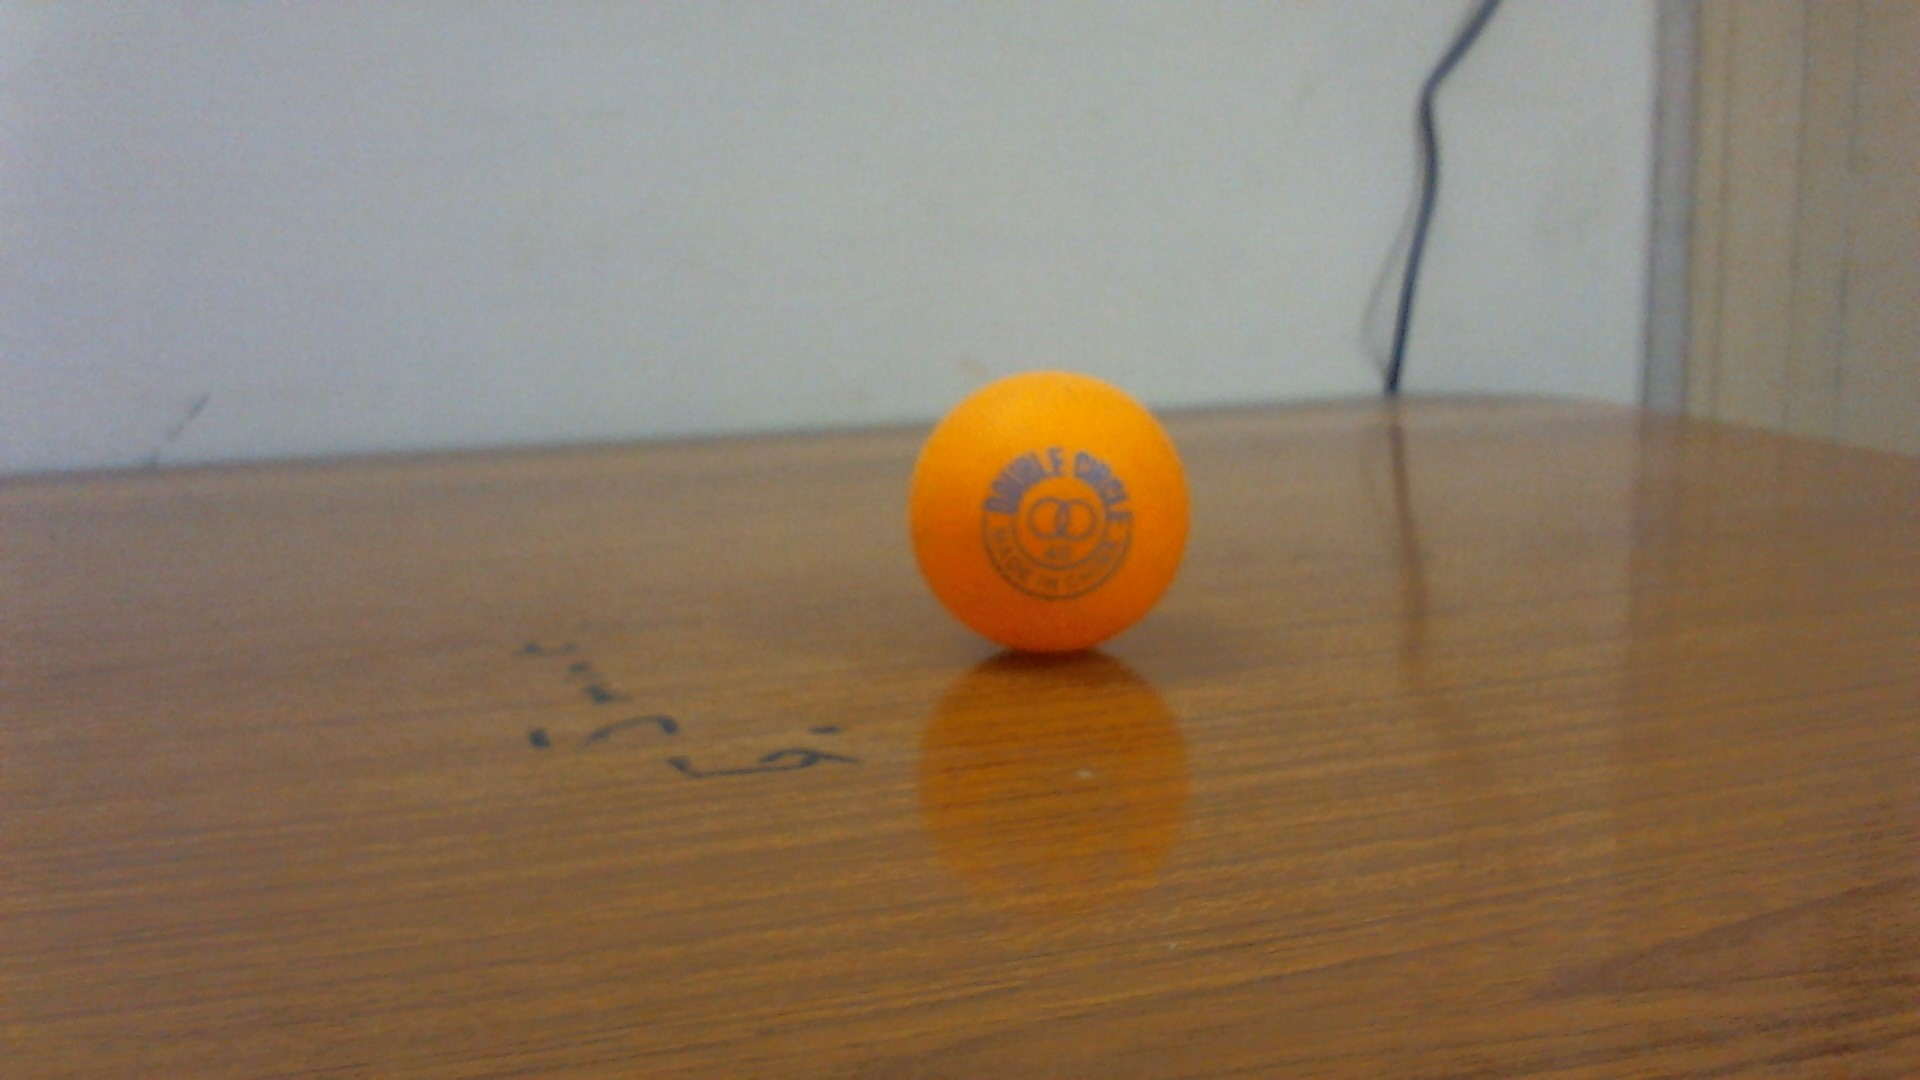ball: (910, 367, 1189, 655)
